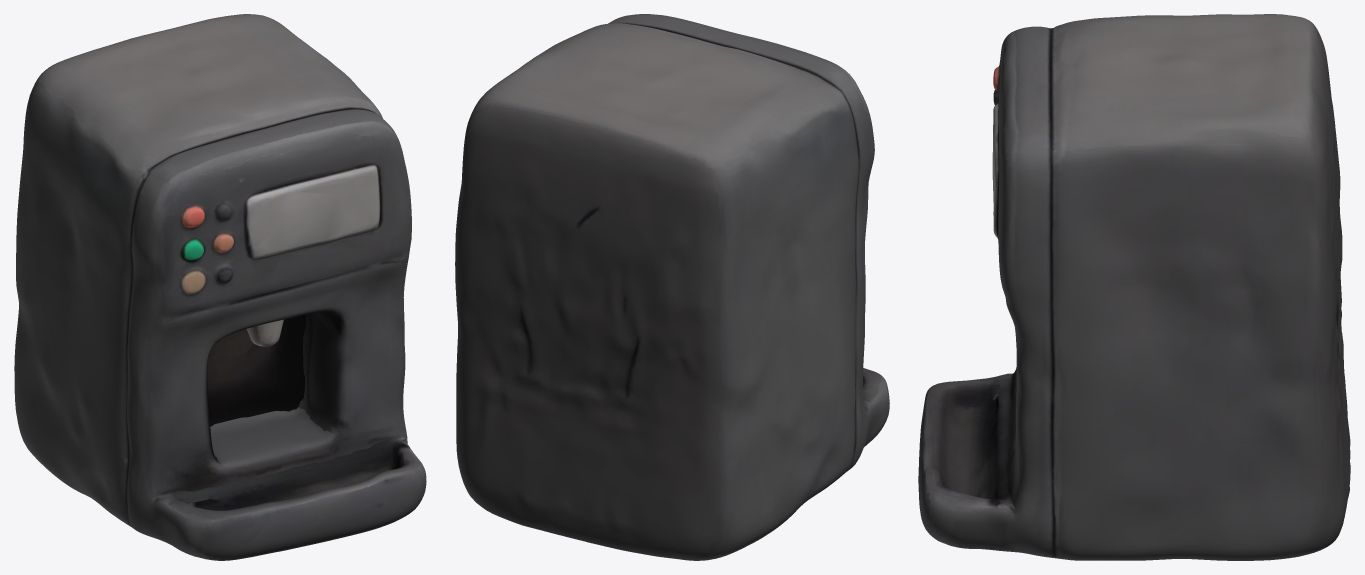
File: coffee.glb
3 views of the same model, side by side, from view 1: azimuth 30°, elevation 25°; view 2: azimuth 150°, elevation 25°; view 3: azimuth 270°, elevation 25° (orthographic). The views are drawn at different scales.
Visible parts, largest first — view 1: tmp2a4n79a6.ply; view 2: tmp2a4n79a6.ply; view 3: tmp2a4n79a6.ply.
Boxes of the visible parts, x1,y1,x2,y2 form: tmp2a4n79a6.ply: (14,14,426,560); tmp2a4n79a6.ply: (455,14,889,560); tmp2a4n79a6.ply: (918,14,1350,560).
Bounding box in the file's own units: 0.7373 × 0.9869 × 0.8767.
Materials: 1 (1 with a texture image).
